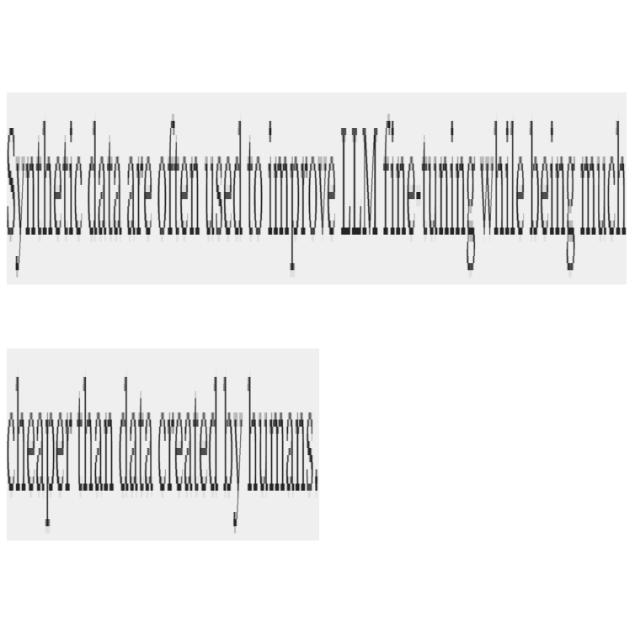word: (380, 83, 478, 320), (5, 63, 88, 308), (246, 324, 322, 553), (265, 87, 339, 296), (153, 87, 204, 328), (155, 356, 221, 541), (6, 360, 75, 530), (526, 83, 579, 288), (479, 91, 527, 304), (337, 79, 382, 304), (577, 99, 629, 281), (84, 72, 124, 293), (74, 348, 116, 541), (202, 107, 247, 285), (116, 364, 158, 546), (122, 91, 156, 292), (219, 352, 246, 549), (244, 91, 265, 304)
